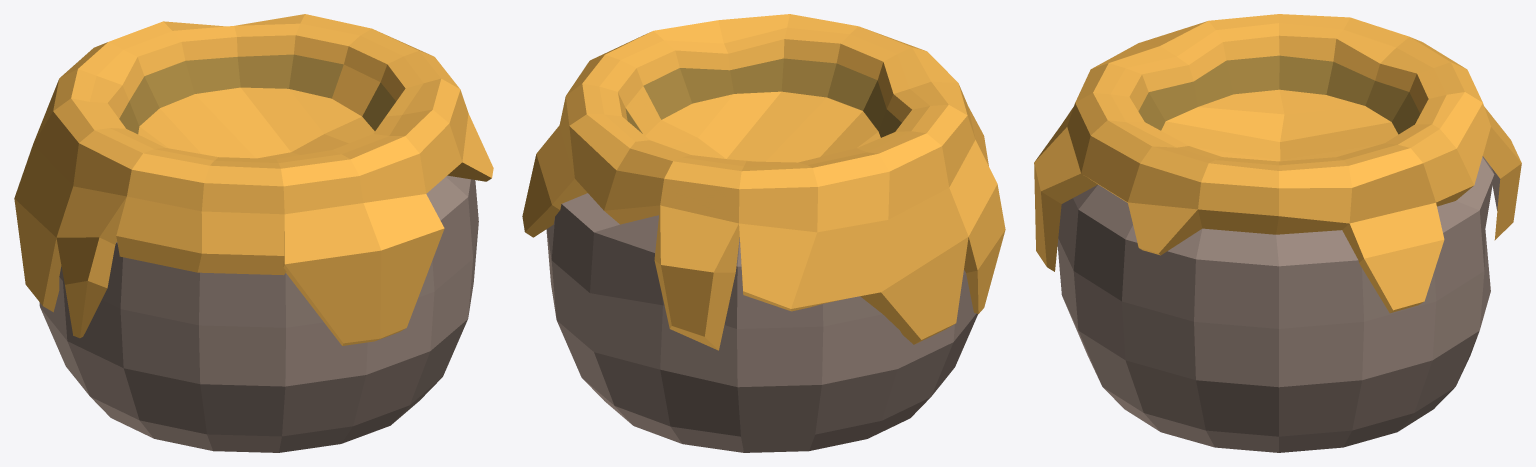
The model's file is Honey.fbx.
3 views of the same model, side by side, from view 1: azimuth 30°, elevation 25°; view 2: azimuth 150°, elevation 25°; view 3: azimuth 270°, elevation 25° (orthographic).
Parts seen in each view (by area): view 1: Honey; view 2: Honey; view 3: Honey.
Part boxes in pixels (x1,y1,x2,y2): Honey: (14, 14, 493, 452); Honey: (522, 14, 1005, 452); Honey: (1034, 14, 1521, 452).
Size of the model in its own units: 50.32 by 37.08 by 53.59.
